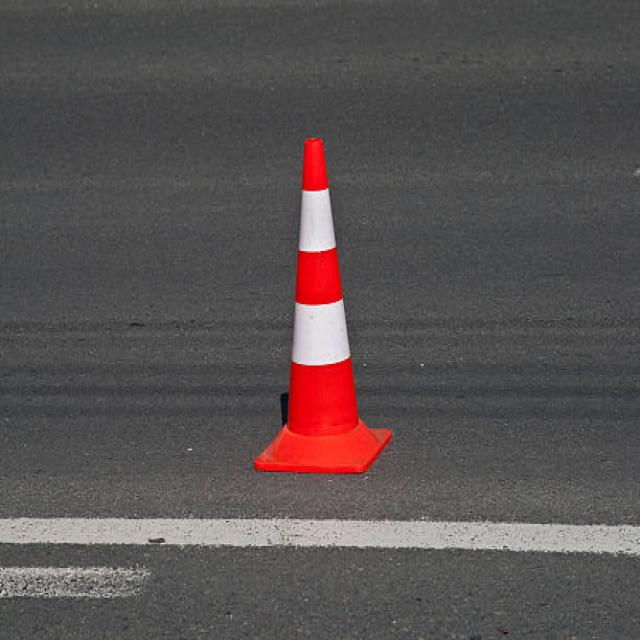Traffic Cone: (245, 115, 398, 483)
